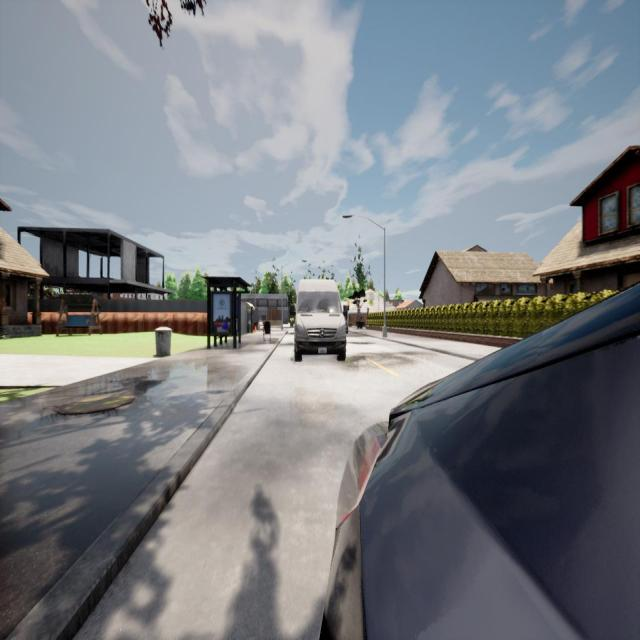Vehicle: (318, 282, 637, 640), (288, 280, 348, 361)
